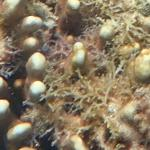dead: (7, 5, 146, 147)
